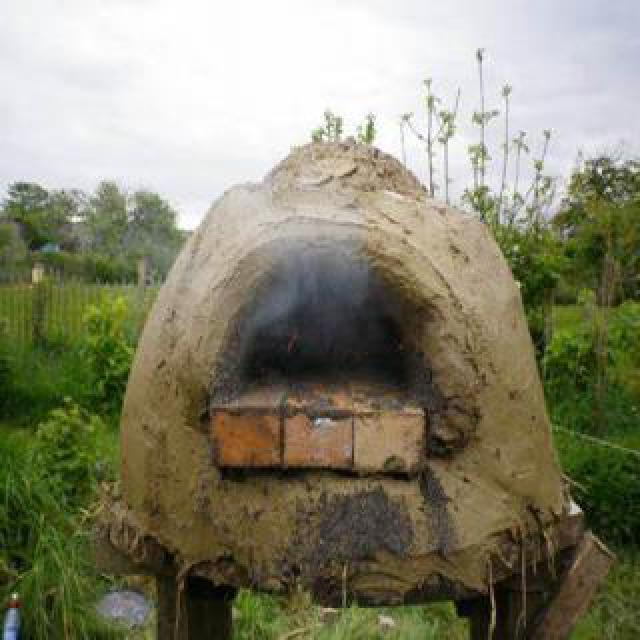Fire: (236, 208, 386, 368)
